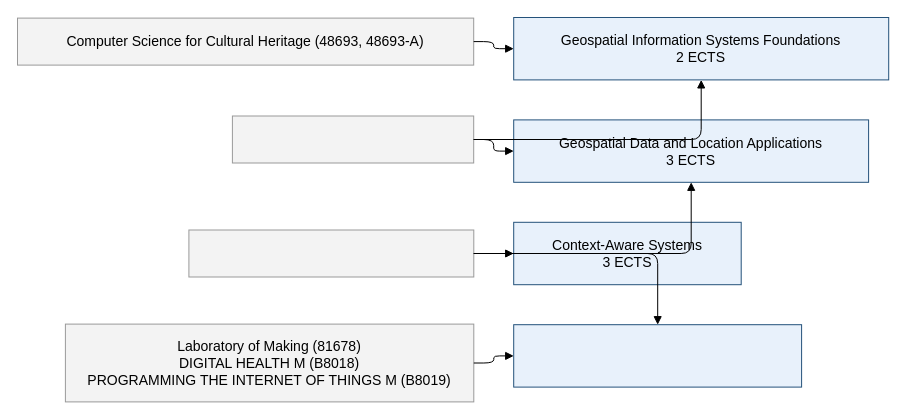
Some shapes in this 907 by 420 pixel diagram are drawn without their labels. The centre of each missing label's shape, as x and y in pixels:
"Computer Science (69259)" belongs at pixel 352 139.
"Context-Aware Activity Systems 3 ECTS" belongs at pixel 657 355.
"Context-Aware Systems (84401)" belongs at pixel 331 253.
